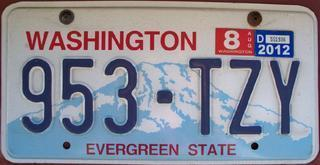placa de veiculo: (6, 2, 314, 158)
